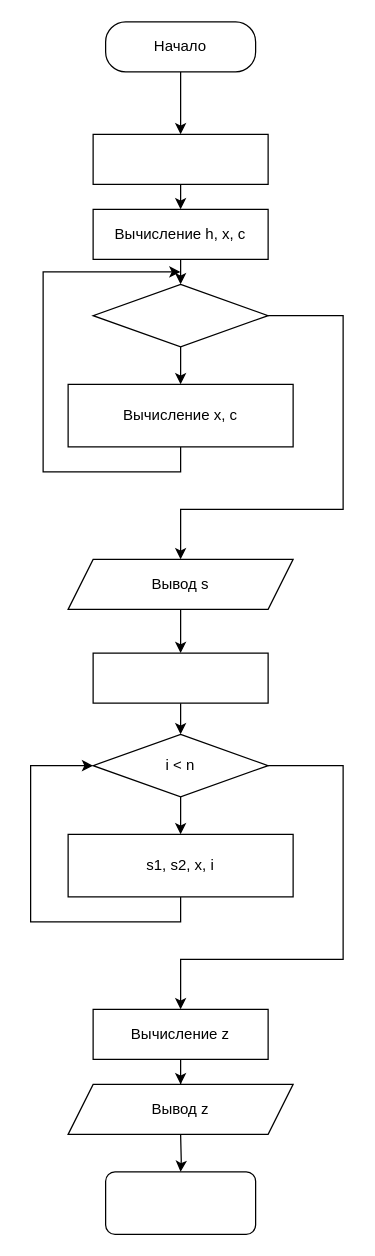
The diagram is 375 pixels wide and 1256 high, and some of its shapes have lost their labels. Each missing label, with the centre of its shape:
"x <= (b - h)" belongs at point (180, 315).
"Вычисление h, c" belongs at point (180, 677).
"Задание переменных" belongs at point (180, 158).
"Конец" belongs at point (180, 1202).
